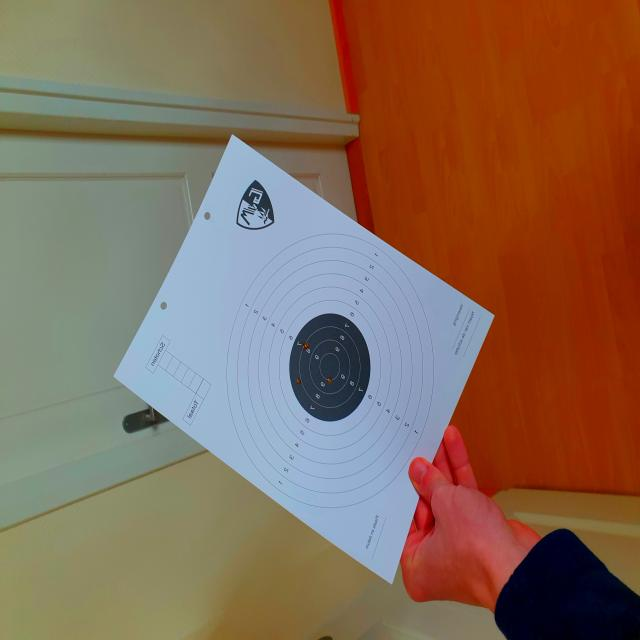10: (327, 376, 332, 385)
7: (296, 378, 302, 385)
8: (300, 341, 310, 351)
Target: (225, 234, 435, 511)
black_contour: (289, 313, 371, 422)
